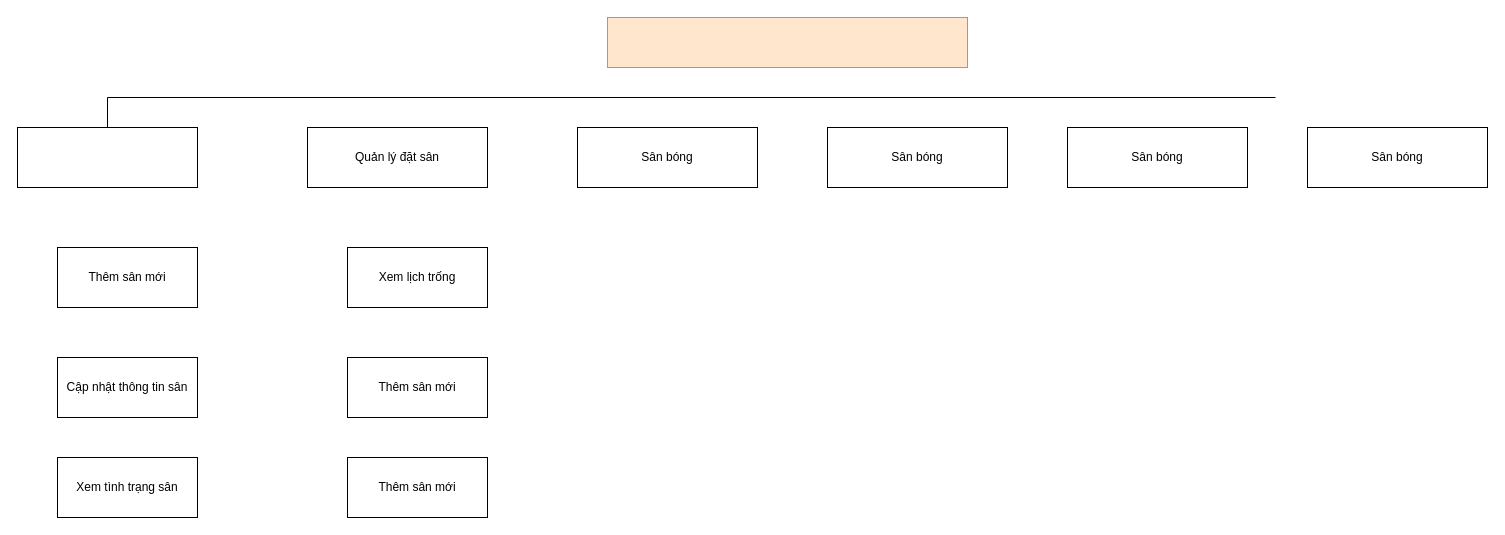
The diagram is 1505 pixels wide and 535 high, and some of its shapes have lost their labels. The shapes that lost their labels are listed below. From the top down, each one's centre as x and y in pixels, then its label:
(x=787, y=42): Phần mềm quản lý đặt sân bóng đá
(x=107, y=157): Quản lý sân bóng
